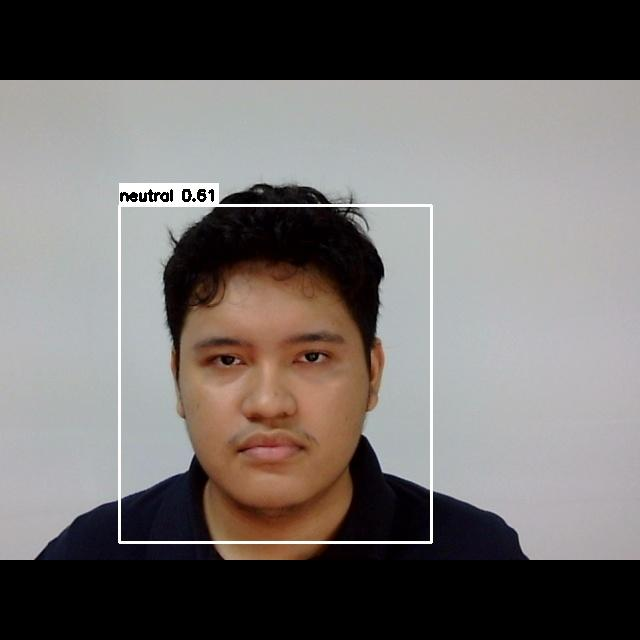Natural: (189, 315, 361, 480)
